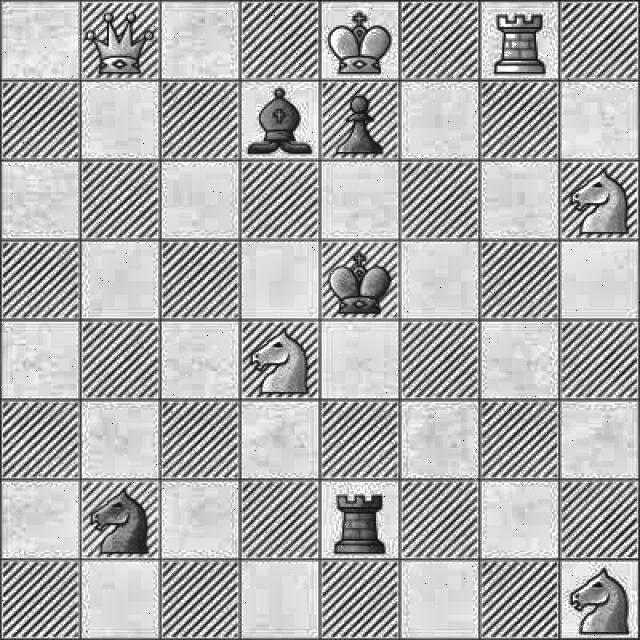Black Knight: (82, 481, 152, 559)
black bishop: (244, 86, 316, 156)
black king: (324, 242, 392, 320)
black pawn: (334, 91, 388, 157)
black rook: (324, 489, 390, 556)
white king: (324, 7, 394, 81)
white queen: (86, 6, 152, 76)
white rook: (484, 2, 556, 80)
whiteknight: (242, 321, 318, 399), (562, 565, 635, 640), (563, 168, 638, 238)
